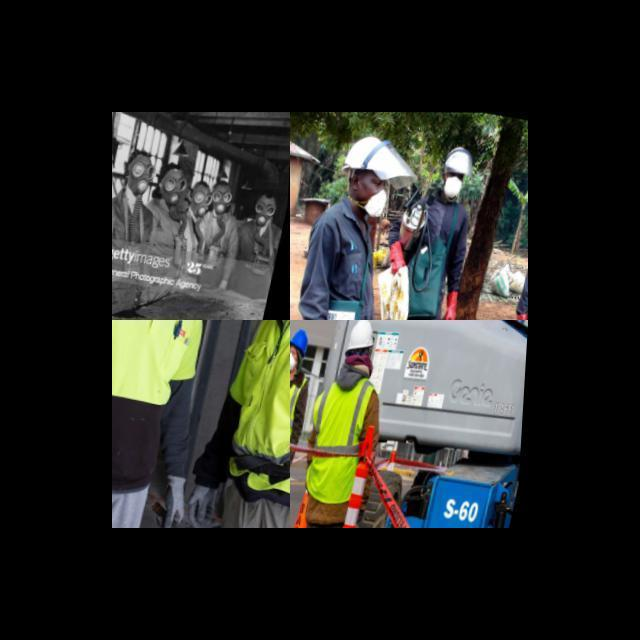Gloves: (154, 476, 186, 528), (186, 483, 219, 528), (389, 239, 406, 276), (443, 290, 460, 321), (517, 313, 528, 320)
Hardhat: (344, 318, 374, 354), (291, 329, 308, 355)
Mask: (363, 189, 389, 219), (129, 178, 152, 196), (443, 177, 462, 197), (163, 187, 180, 206), (255, 210, 270, 225), (194, 202, 208, 216), (213, 201, 228, 214), (181, 197, 190, 215), (291, 354, 297, 371)
NO-Hardhat: (126, 150, 152, 163), (161, 161, 183, 175), (212, 180, 231, 189), (191, 181, 209, 190), (260, 192, 277, 201)
NO-Safety Vest: (315, 195, 374, 317), (408, 194, 465, 320), (112, 195, 152, 301), (237, 220, 280, 296), (149, 200, 178, 293), (199, 211, 233, 274), (180, 209, 203, 291)
Person: (186, 320, 289, 528), (112, 319, 203, 528), (297, 136, 389, 318), (302, 319, 379, 528), (385, 144, 471, 320), (234, 192, 281, 302), (290, 328, 311, 463), (515, 269, 528, 320)
Safety Cone: (343, 462, 369, 528)
Safety Vest: (228, 320, 291, 495), (304, 378, 379, 503), (112, 319, 203, 405)
